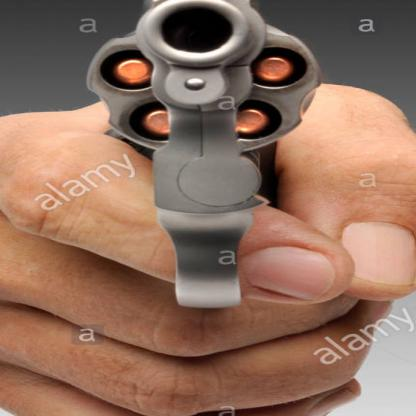gun: (69, 0, 324, 324)
